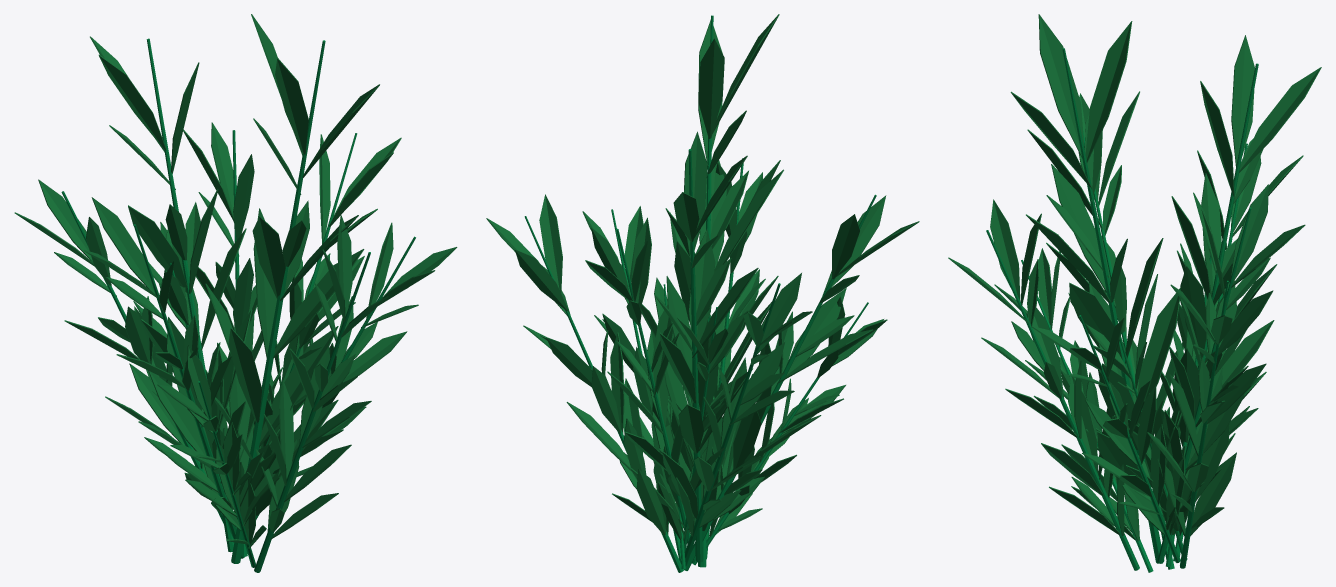
File: rosemary.fbx
3 views of the same model, side by side, from view 1: azimuth 30°, elevation 25°; view 2: azimuth 150°, elevation 25°; view 3: azimuth 270°, elevation 25° (orthographic). The views are drawn at different scales.
Visible parts, largest first — view 1: rosemary.010; view 2: rosemary.010; view 3: rosemary.010.
Boxes of the visible parts, x1,y1,x2,y2 form: rosemary.010: (14,14,457,572); rosemary.010: (486,14,919,572); rosemary.010: (948,14,1321,572).
Size of the model in its own units: 469 by 643 by 399.
